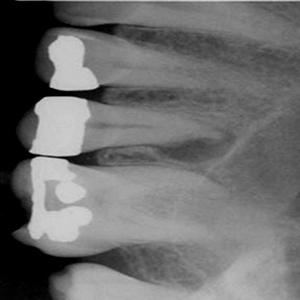tooth: (11, 158, 233, 259), (32, 28, 262, 93), (19, 95, 229, 157)
